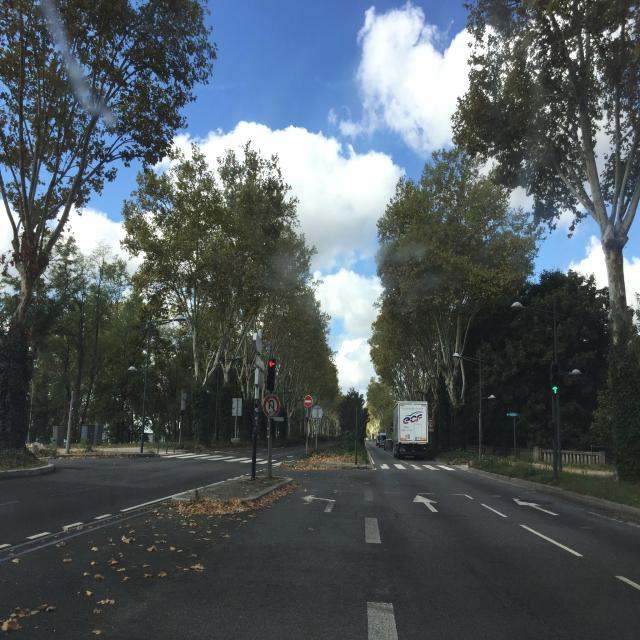car: (392, 400, 429, 459), (376, 433, 387, 448)
